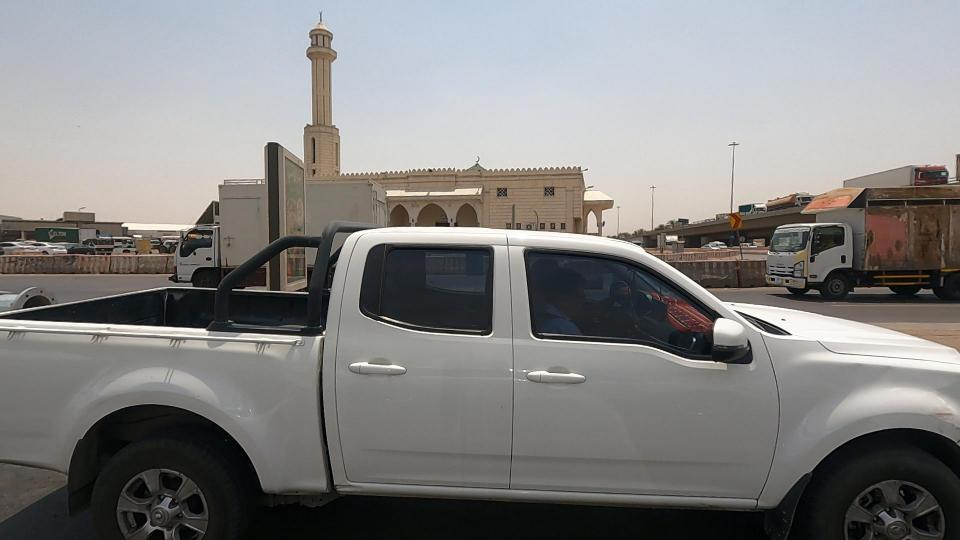CONSTRUCTION_ROAD: (623, 245, 806, 294)
